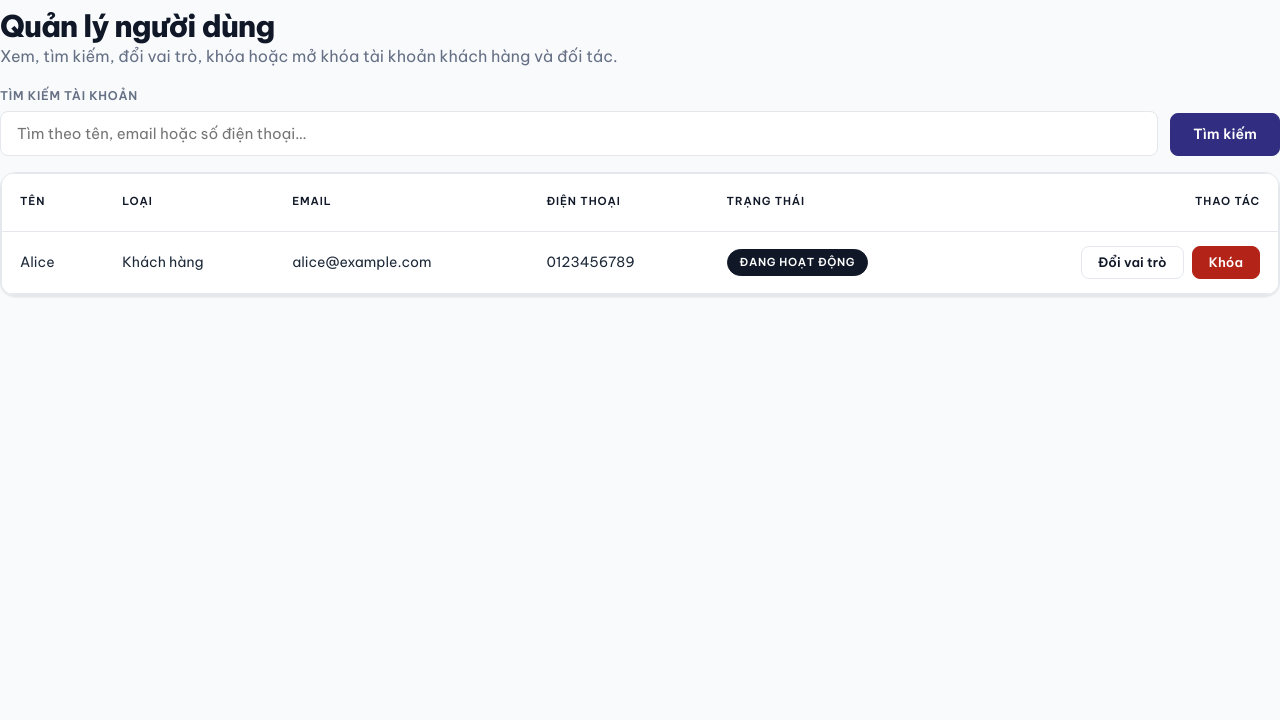
Test: UsersPage › locks an active account after confirmation and refreshes (Req 5.3)
Expected: the text "Alice" is shown, [2, 232, 104, 294]
Click the button with aria-label "khóa alice".
click(1226, 263)  # box [1192, 246, 1260, 279]
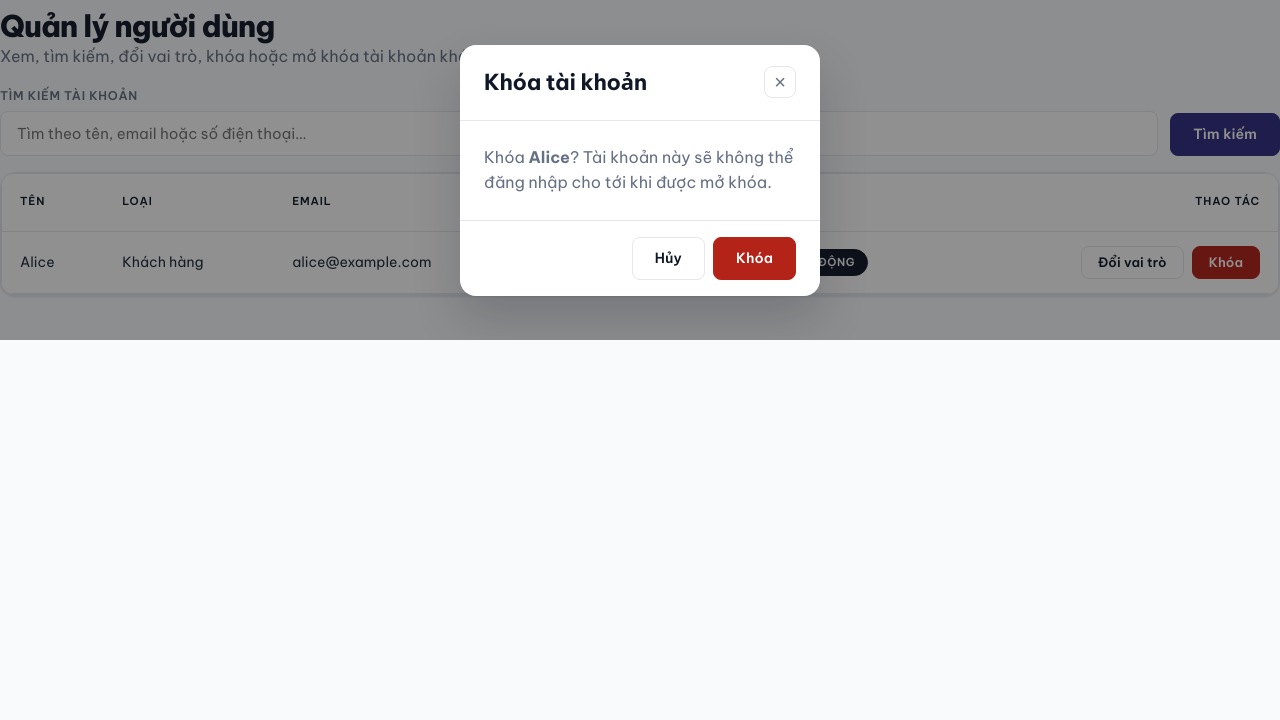
Click the button "Khóa".
click(754, 258)  # box [713, 237, 796, 280]
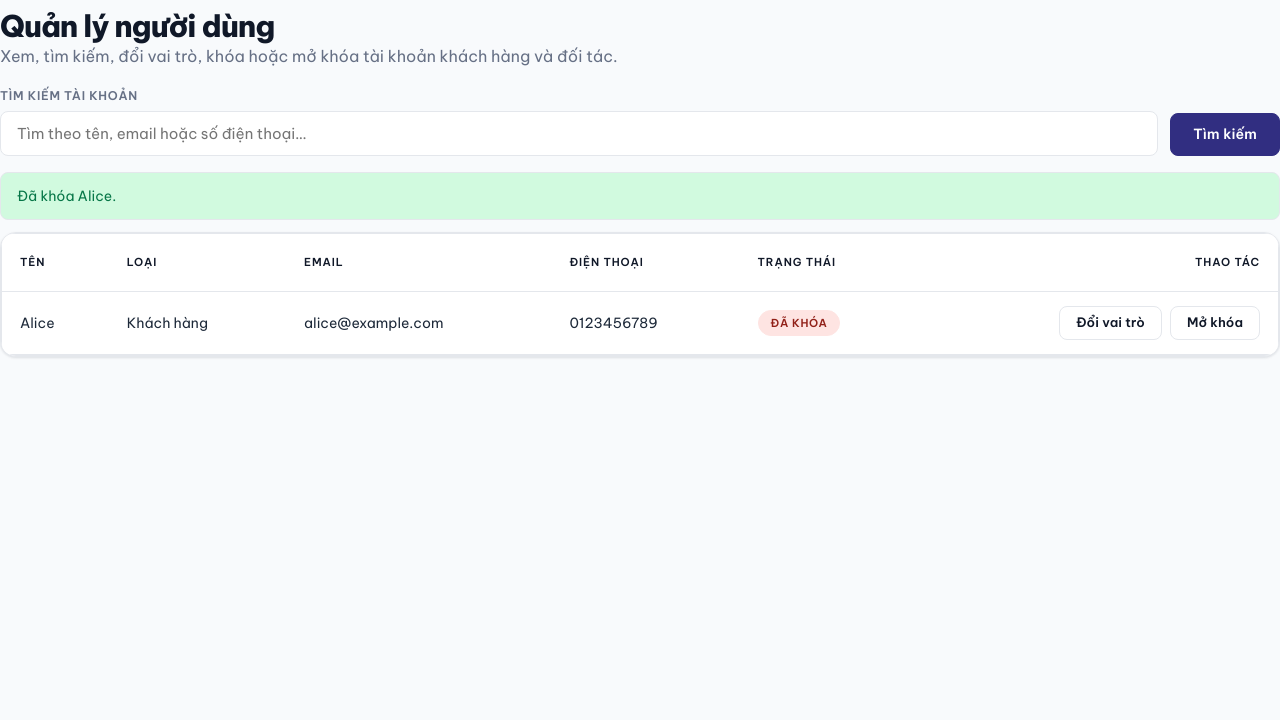
Expected: the text "Đã khóa Alice." is shown, [0, 172, 1279, 220]
